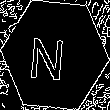N_N: (35, 28, 75, 82)
